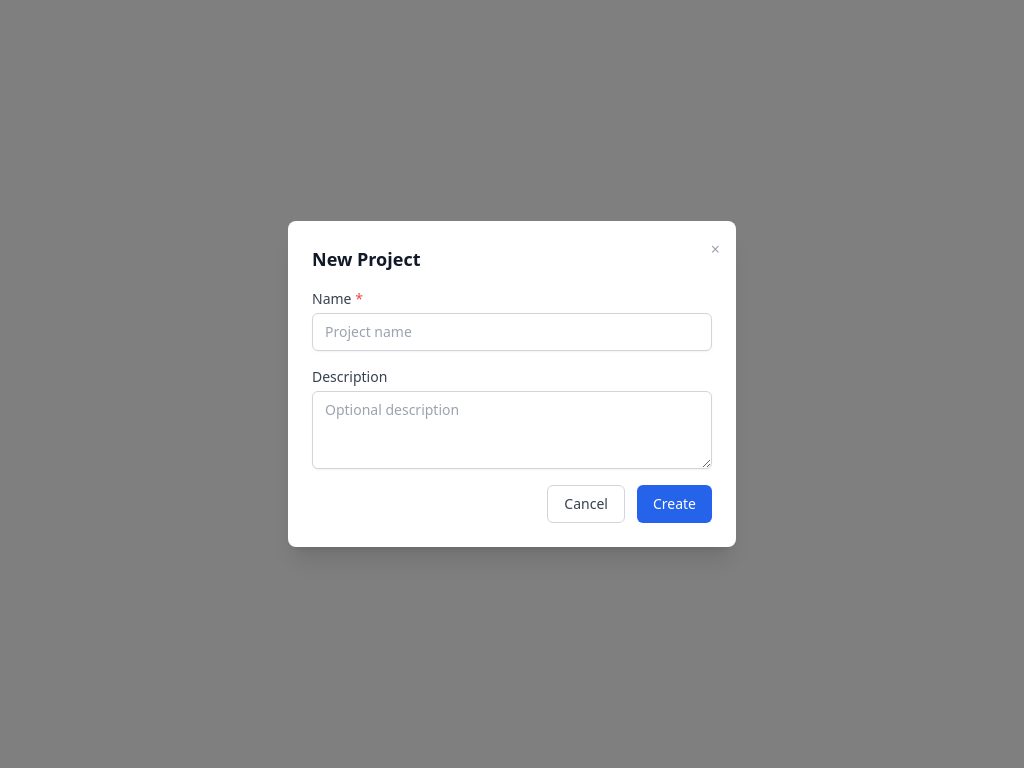
ProjectFormModal › shows error message when addProject rejects
In the field labelled "Name *": (512, 332) [312,313,712,351], type "New Project"
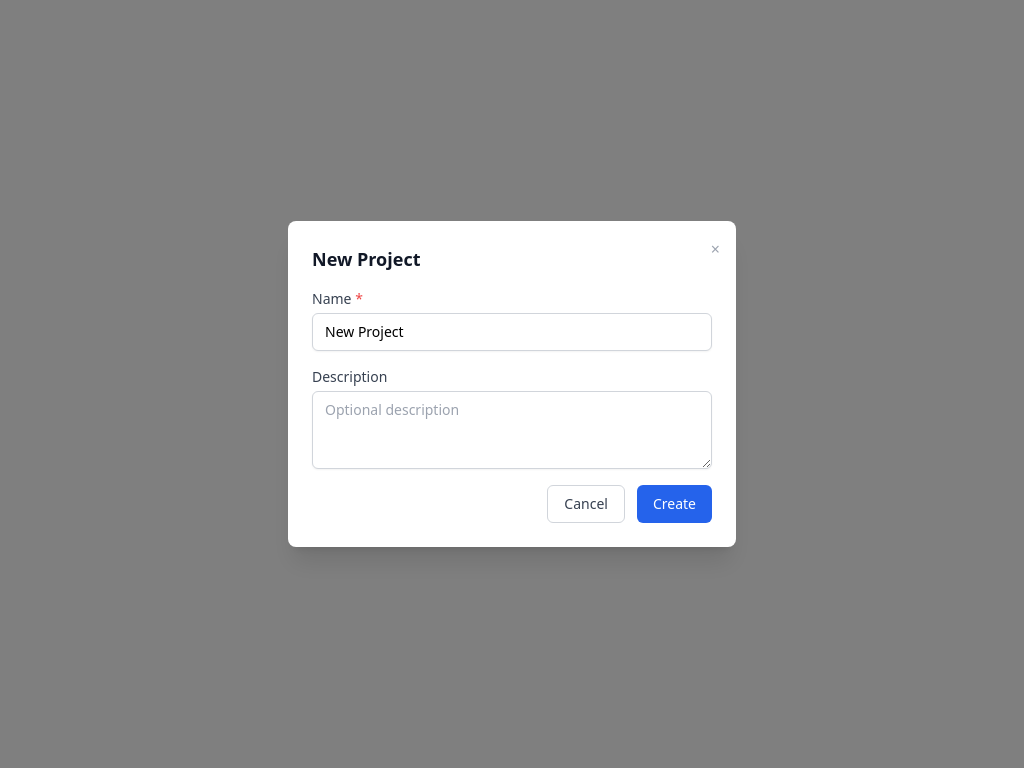
Submit the form, box [312,289,712,523]
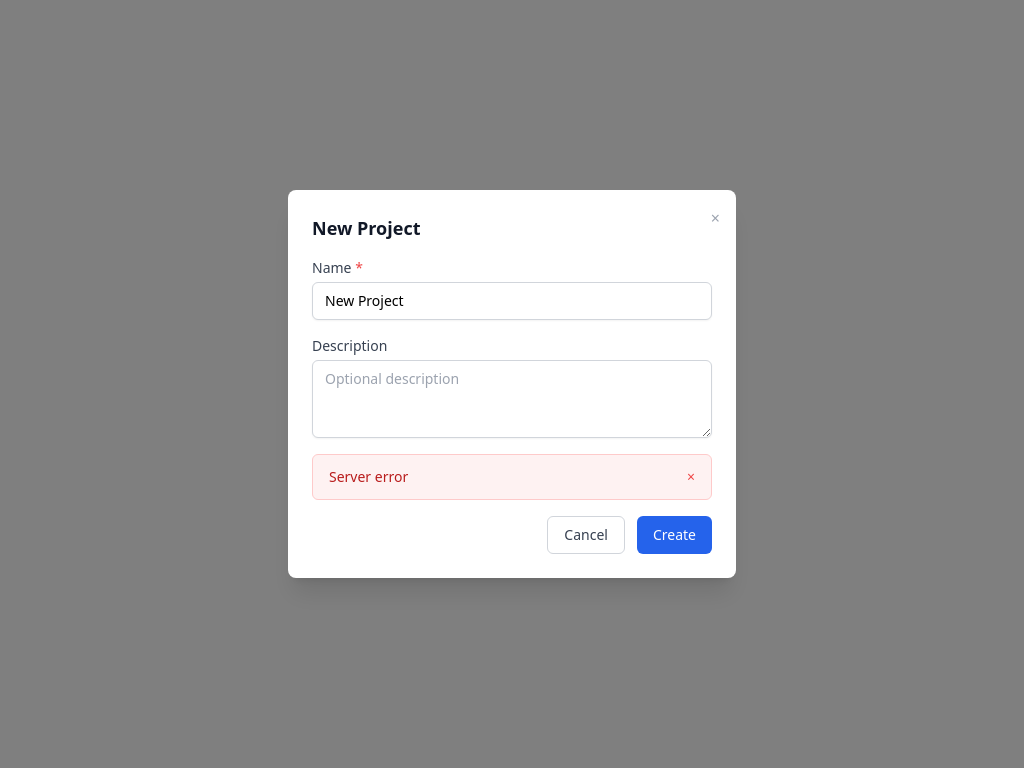
Result: the text "Server error" is shown at [329,467,408,487]
